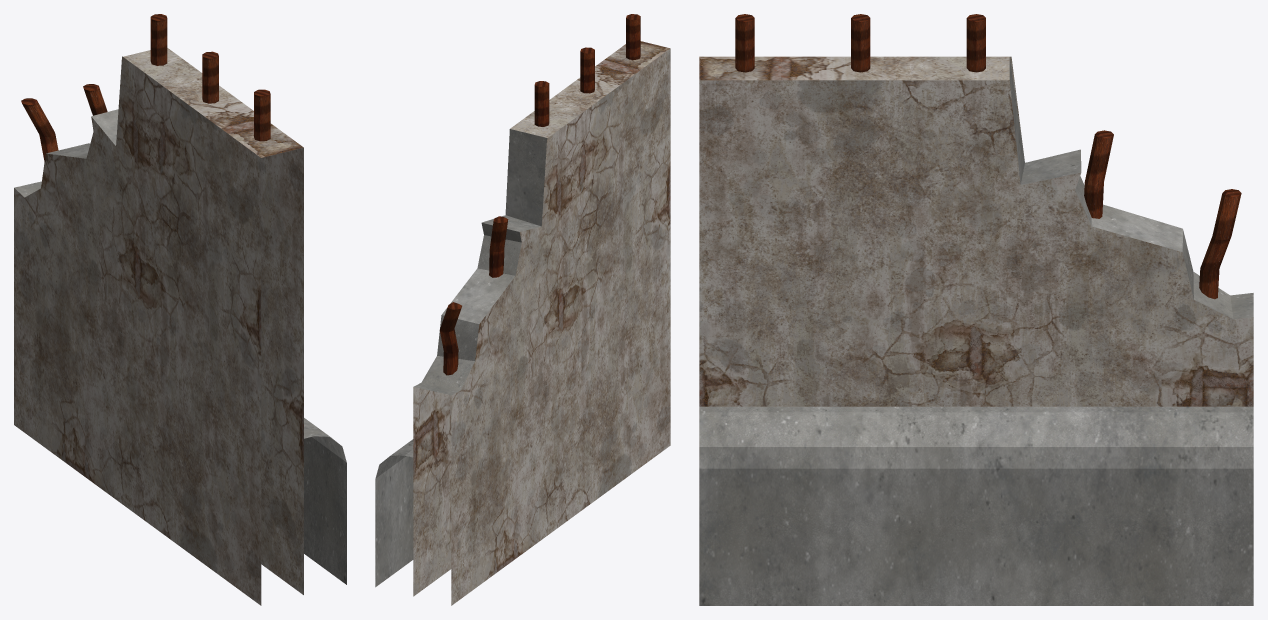
The model's file is BrokenWall.fbx.
The picture shows the model from 3 angles, left to right: view 1: azimuth 30°, elevation 25°; view 2: azimuth 150°, elevation 25°; view 3: azimuth 270°, elevation 25°; orthographic projection. The views are drawn at different scales.
Parts seen in each view (by area): view 1: Wallbroken; view 2: Wallbroken; view 3: Wallbroken.
Boxes of the visible parts, x1=… form: Wallbroken: x1=14, y1=14, x2=346, y2=605; Wallbroken: x1=375, y1=14, x2=670, y2=605; Wallbroken: x1=699, y1=14, x2=1253, y2=605.
Bounding box in the file's own units: 40.85 × 220 × 200.
